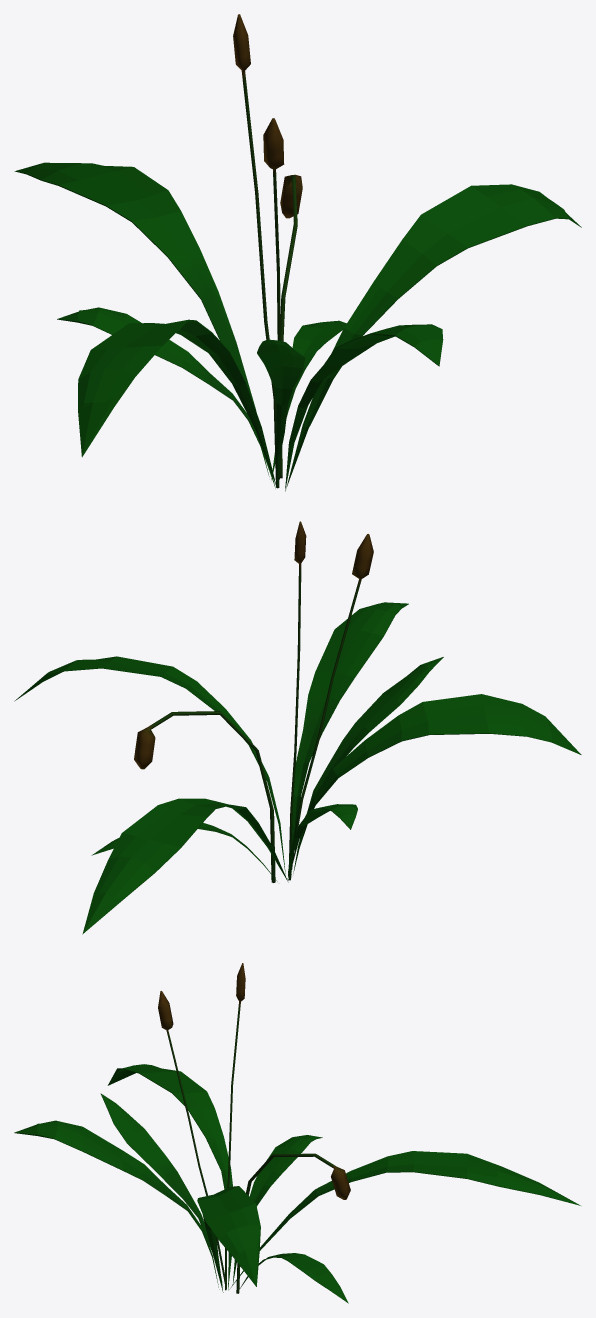
The model's file is spitzwegerich.fbx.
The picture shows the model from 3 angles, top to bottom: view 1: azimuth 30°, elevation 25°; view 2: azimuth 150°, elevation 25°; view 3: azimuth 270°, elevation 25°; orthographic projection. The views are drawn at different scales.
Parts seen in each view (by area): view 1: Plane.002; view 2: Plane.002; view 3: Plane.002.
Part boxes in pixels (x1=…): Plane.002: x1=14, y1=14, x2=581, y2=491; Plane.002: x1=14, y1=521, x2=581, y2=934; Plane.002: x1=14, y1=963, x2=580, y2=1303.
Bounding box in the file's own units: 279 × 207 × 332.
